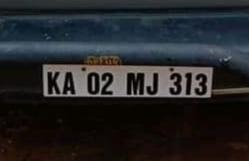0: (85, 69, 100, 95)
1: (184, 68, 194, 97)
2: (100, 70, 118, 97)
3: (194, 70, 209, 96), (169, 70, 183, 96)
A: (63, 70, 78, 96)
J: (146, 69, 159, 95)
K: (45, 69, 62, 96)
M: (125, 69, 146, 96)
